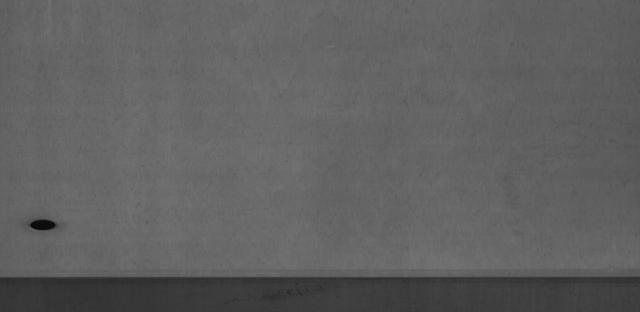punching_hole: (25, 217, 65, 235)
welding_line: (3, 262, 640, 286)
